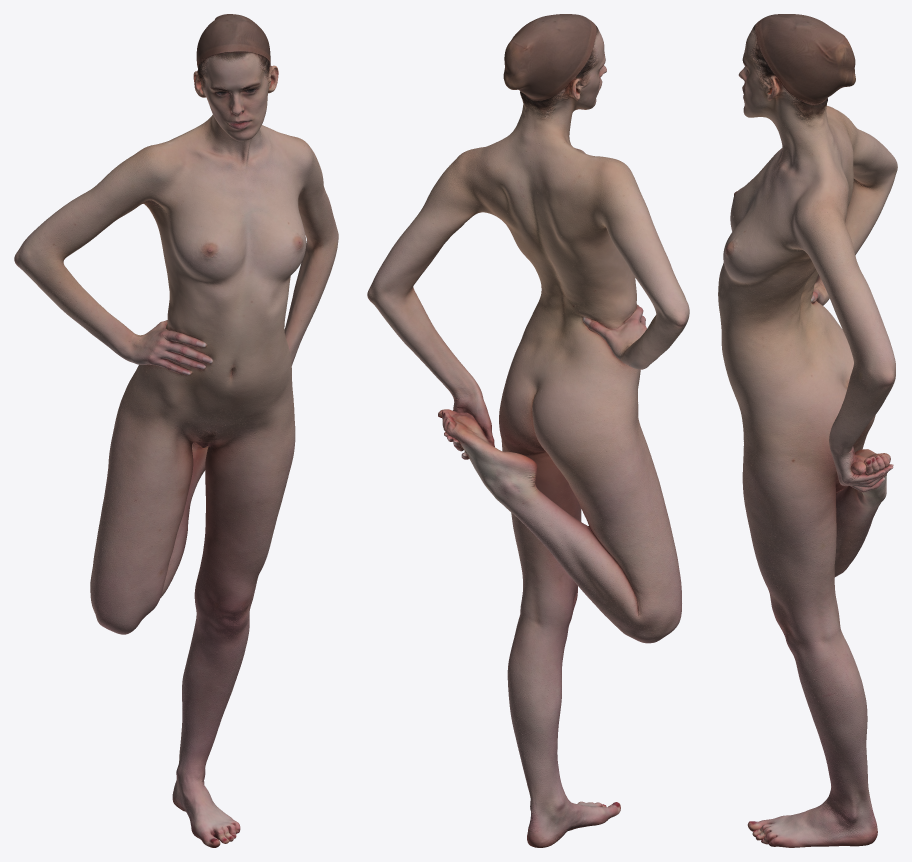
The model's file is colour-female-06-p06.glb.
3 views of the same model, side by side, from view 1: azimuth 30°, elevation 25°; view 2: azimuth 150°, elevation 25°; view 3: azimuth 270°, elevation 25° (orthographic). The views are drawn at different scales.
Parts seen in each view (by area): view 1: Colour Female 06 P06.OBJ; view 2: Colour Female 06 P06.OBJ; view 3: Colour Female 06 P06.OBJ.
Boxes of the visible parts, left/top/right/bottom form: Colour Female 06 P06.OBJ: left=14, top=14, right=338, bottom=847; Colour Female 06 P06.OBJ: left=367, top=14, right=689, bottom=847; Colour Female 06 P06.OBJ: left=718, top=14, right=897, bottom=847.
Size of the model in its own units: 0.7274 by 1.75 by 0.3428.
1 material, 1 textured.
